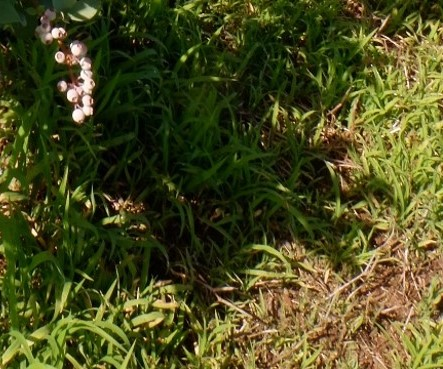Immature: (71, 43, 87, 57), (71, 108, 85, 124), (66, 89, 79, 104), (80, 56, 93, 70), (79, 85, 93, 96), (51, 27, 63, 39), (80, 69, 93, 80), (81, 95, 94, 106), (44, 9, 56, 20), (41, 33, 53, 44), (83, 79, 95, 90), (57, 80, 68, 92), (69, 40, 83, 49), (40, 22, 51, 33), (55, 52, 65, 64), (35, 25, 44, 38), (39, 15, 50, 25), (82, 106, 93, 116), (58, 27, 67, 39), (76, 87, 85, 96)
